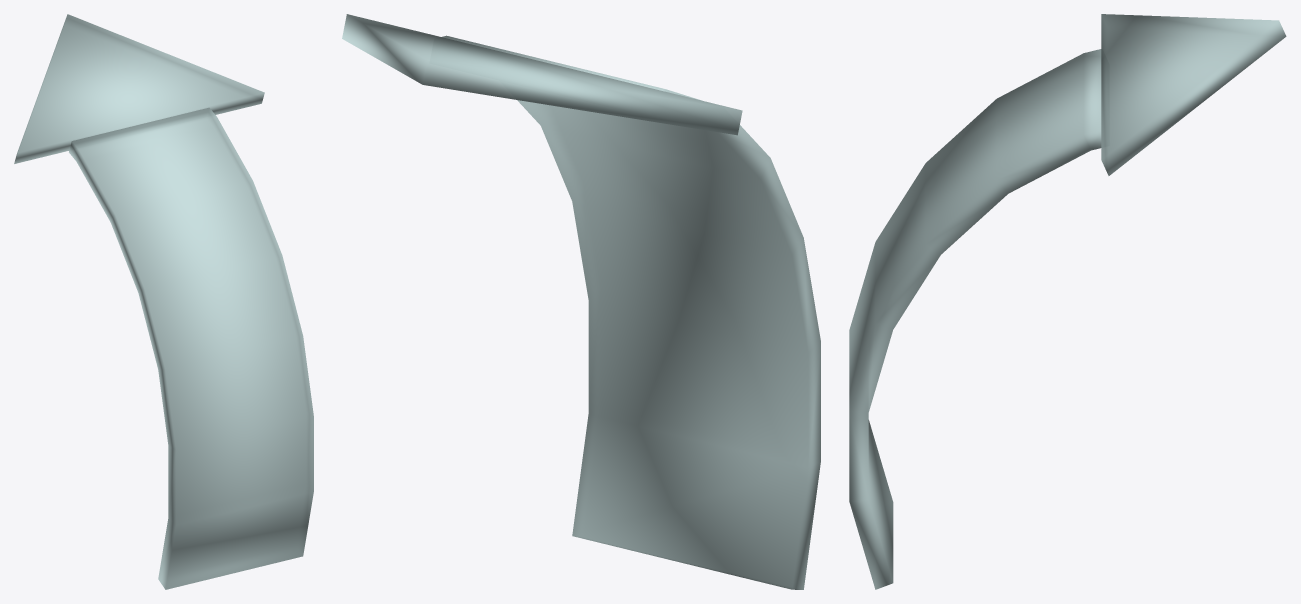
The model's file is flipUp.fbx.
3 renders of one model, left to right at view 1: azimuth 30°, elevation 25°; view 2: azimuth 150°, elevation 25°; view 3: azimuth 270°, elevation 25°, orthographic. The views are drawn at different scales.
Parts seen in each view (by area): view 1: group_0_8768998; view 2: group_0_8768998; view 3: group_0_8768998.
Part boxes in pixels (x1,y1,x2,y2): group_0_8768998: (14,14,313,589); group_0_8768998: (342,14,820,589); group_0_8768998: (849,14,1286,589).
Size of the model in its own units: 1800 by 3034 by 2272.
